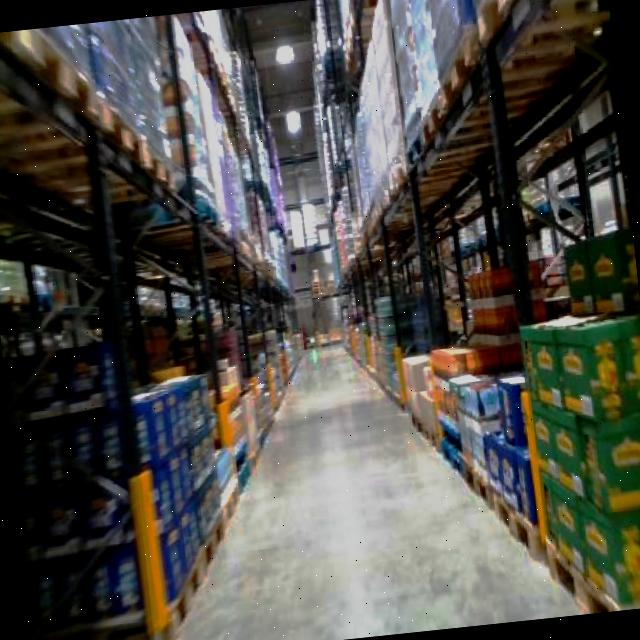ground: (4, 305, 640, 640)
pallet: (306, 0, 640, 635), (0, 4, 330, 640), (392, 218, 640, 628), (513, 304, 640, 617)
